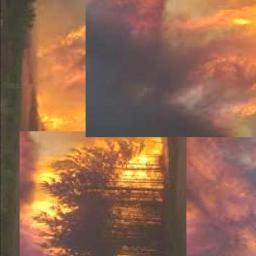Heavy smoke: (35, 1, 163, 137), (186, 138, 256, 256)
Large fire: (20, 137, 168, 256), (165, 0, 256, 137)
